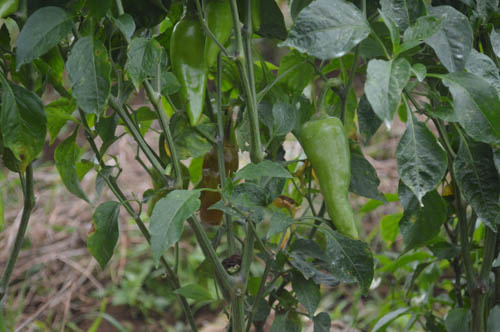ChiliPepper: (303, 117, 357, 241), (172, 20, 210, 129)
